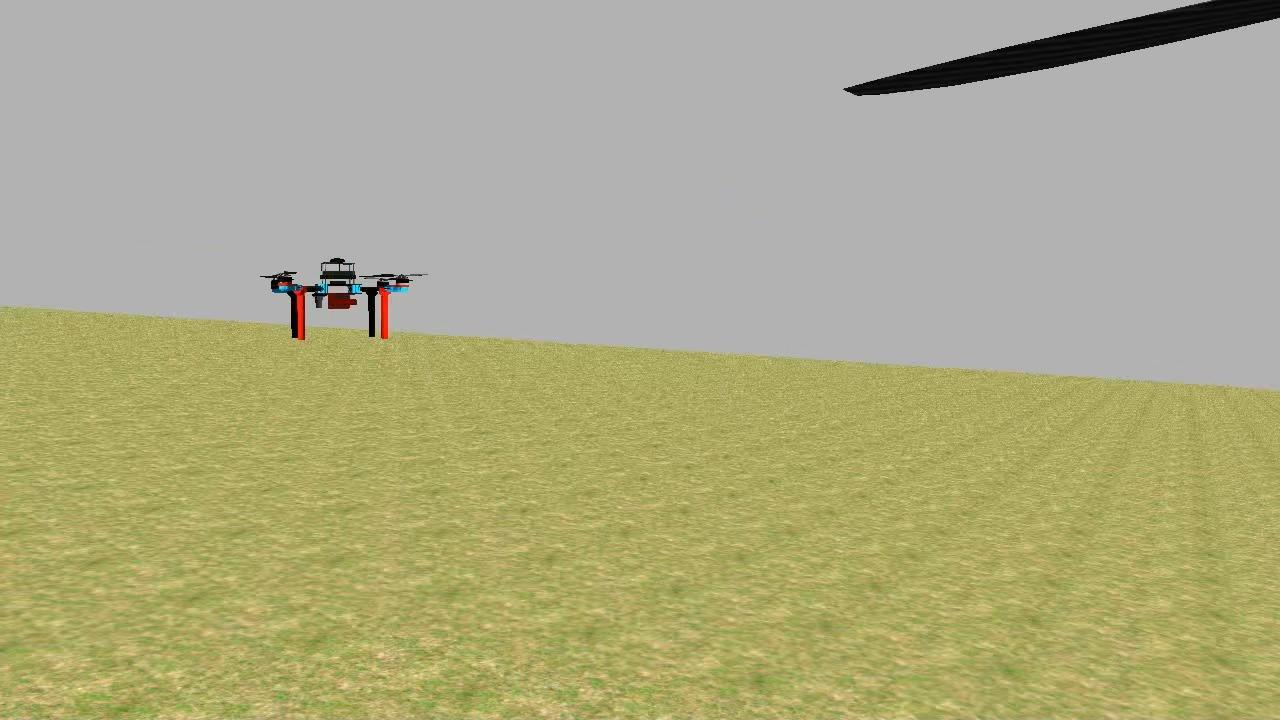UAV: (266, 253, 420, 350)
